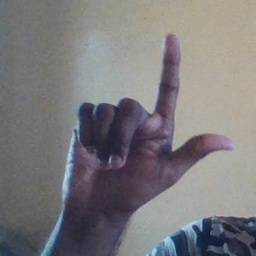L: (60, 31, 236, 212)
